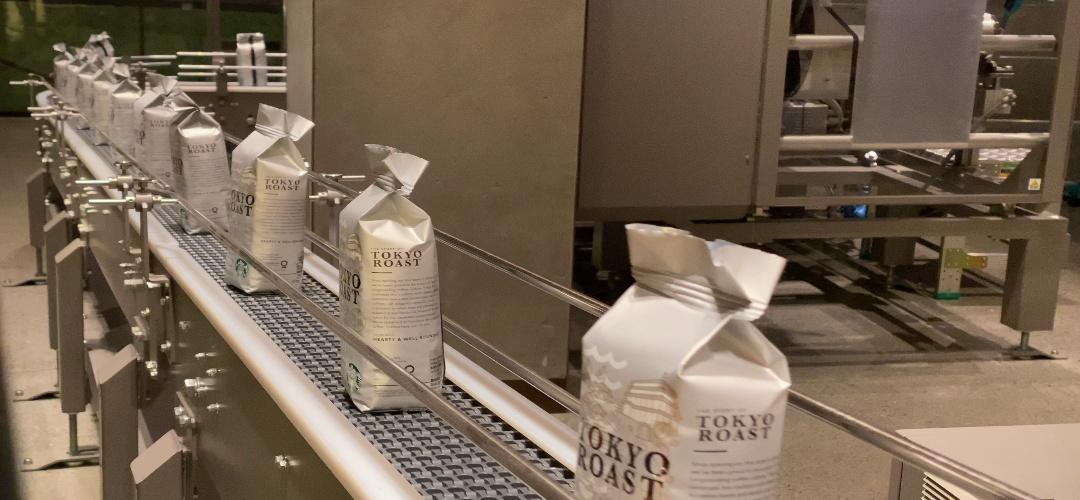conveyor: (581, 306, 787, 491), (334, 180, 447, 368), (230, 144, 309, 256), (169, 122, 230, 216)
